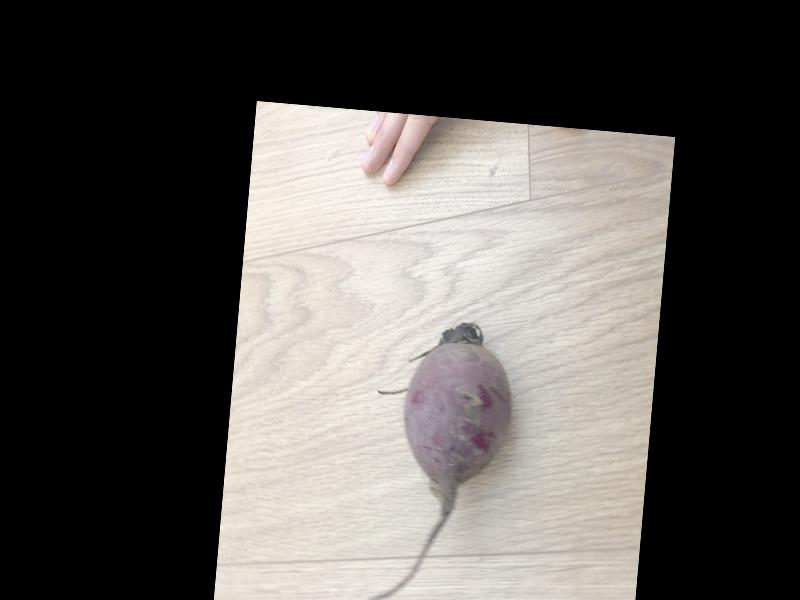Beet: (360, 317, 516, 600)
